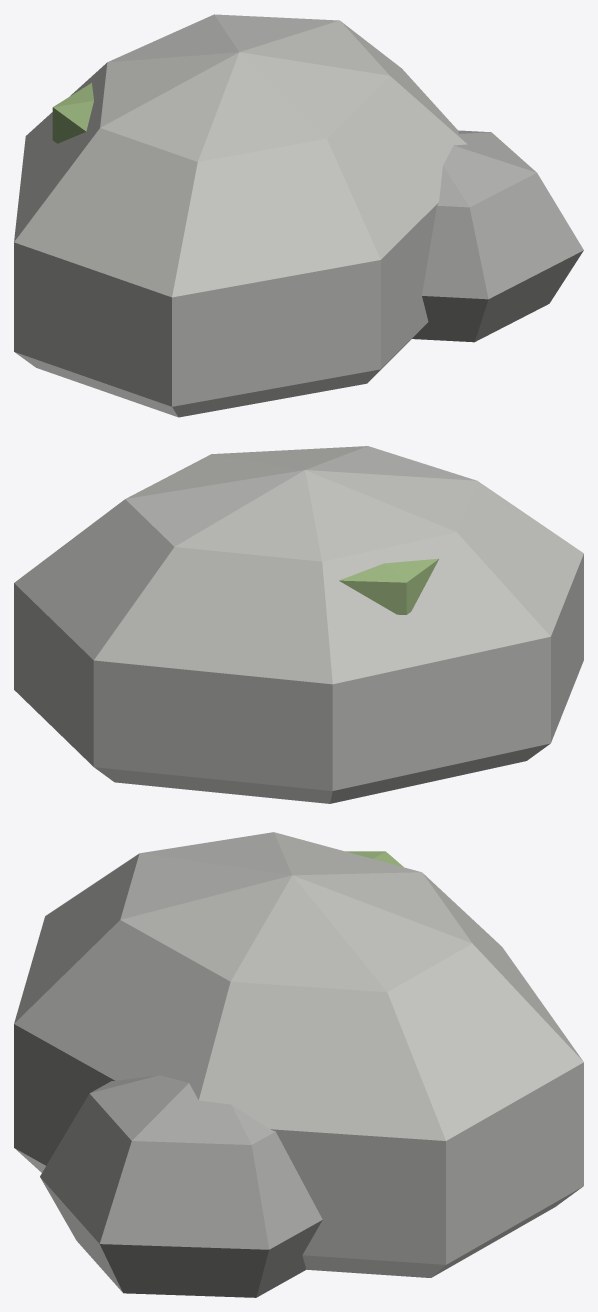
Rendered from sb_rock_large.glb.
The picture shows the model from 3 angles, top to bottom: view 1: azimuth 30°, elevation 25°; view 2: azimuth 150°, elevation 25°; view 3: azimuth 270°, elevation 25°; orthographic projection. The views are drawn at different scales.
Parts seen in each view (by area): view 1: sb_rock_large; view 2: sb_rock_large; view 3: sb_rock_large.
Boxes of the visible parts, left/top/right/bottom form: sb_rock_large: left=14, top=14, right=583, bottom=417; sb_rock_large: left=14, top=446, right=583, bottom=803; sb_rock_large: left=14, top=832, right=583, bottom=1297.
Bounding box in the file's own units: 3.37 × 1.61 × 2.89.
